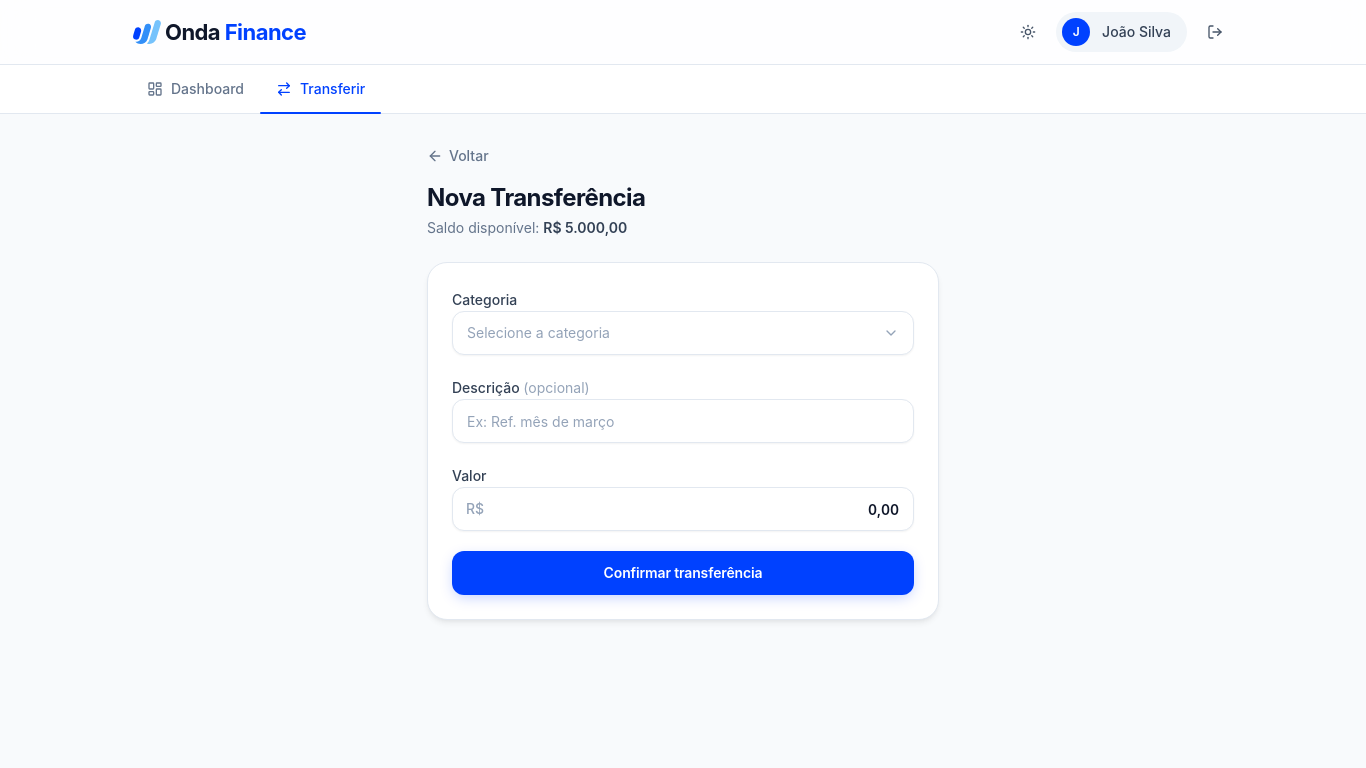
Test case: Transfer Page › should format currency input like a banking app
Click the field labelled "Valor": click(683, 509) [452,487,914,531]
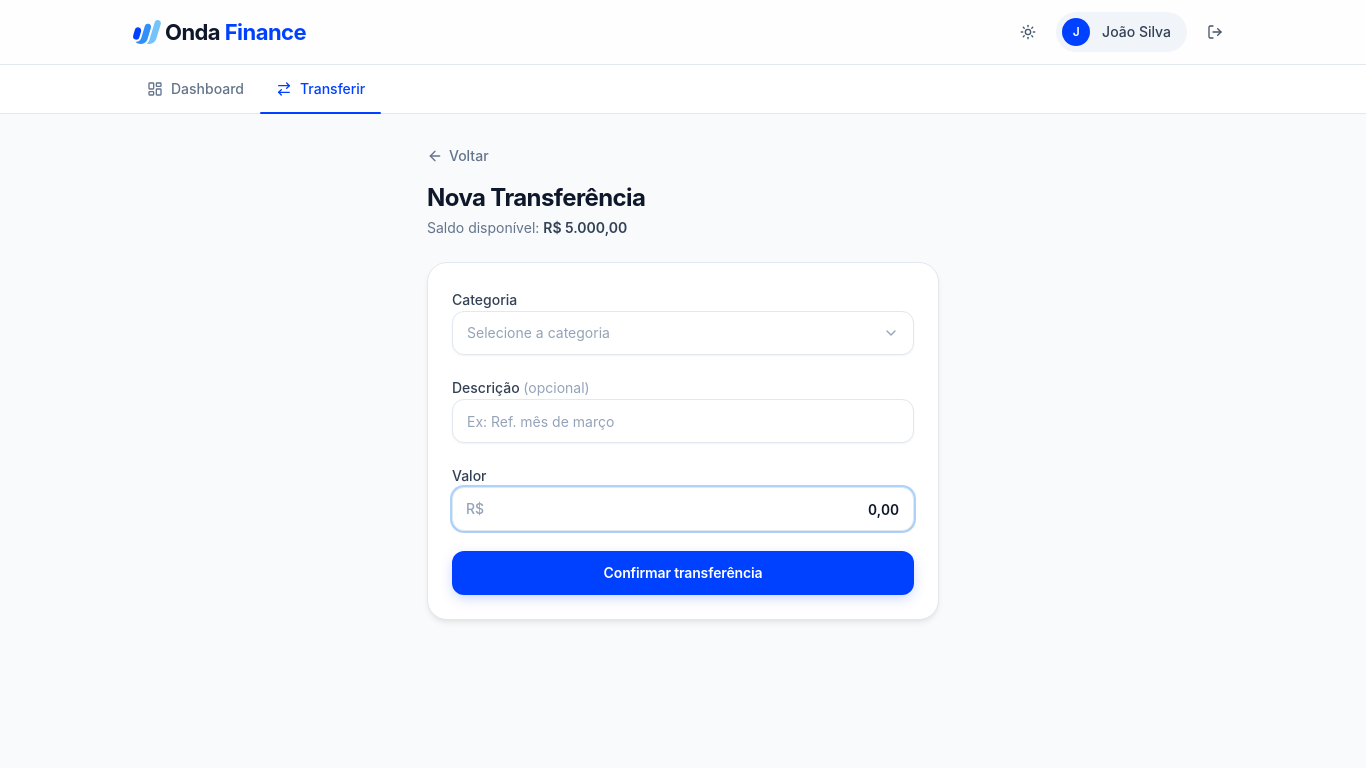
Type keys "3"
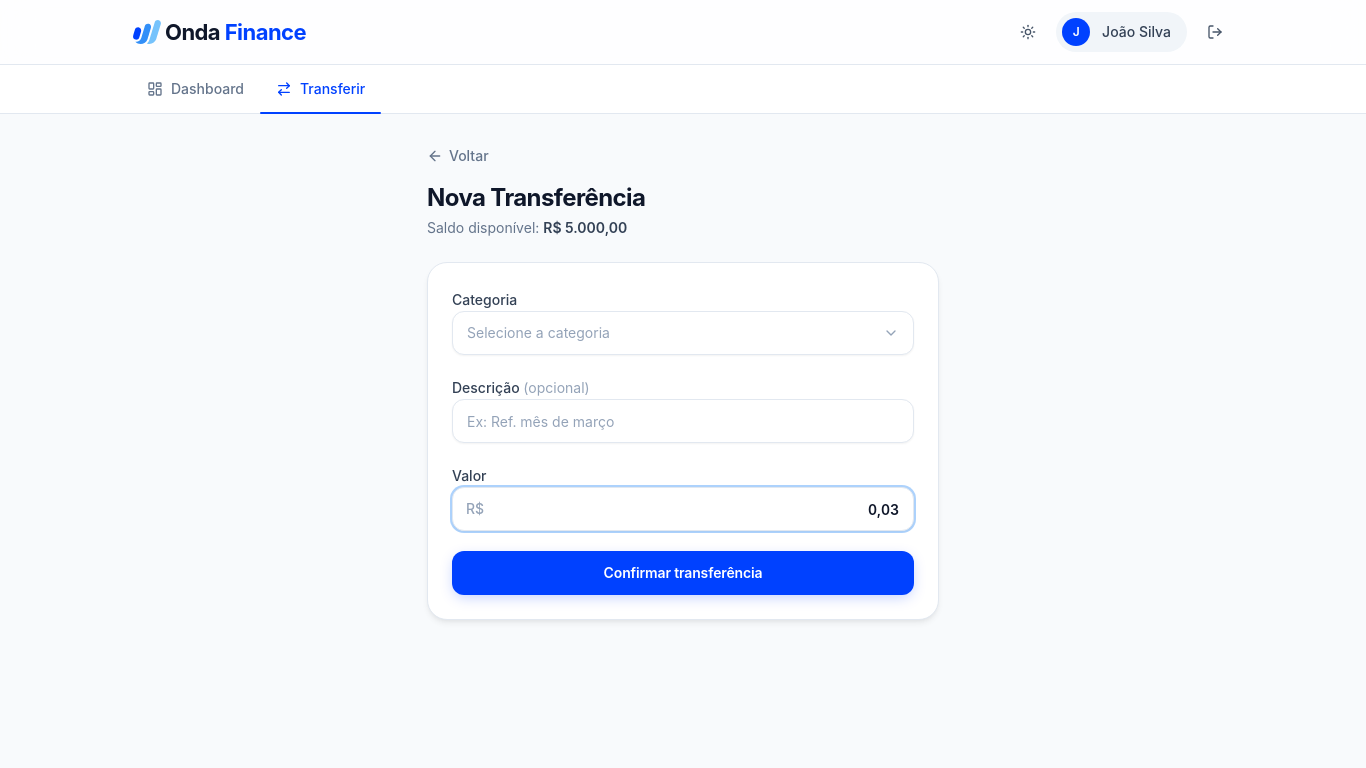
Expected: the field labelled "Valor" holds "0,03", [452,487,914,531]
Type keys "2"
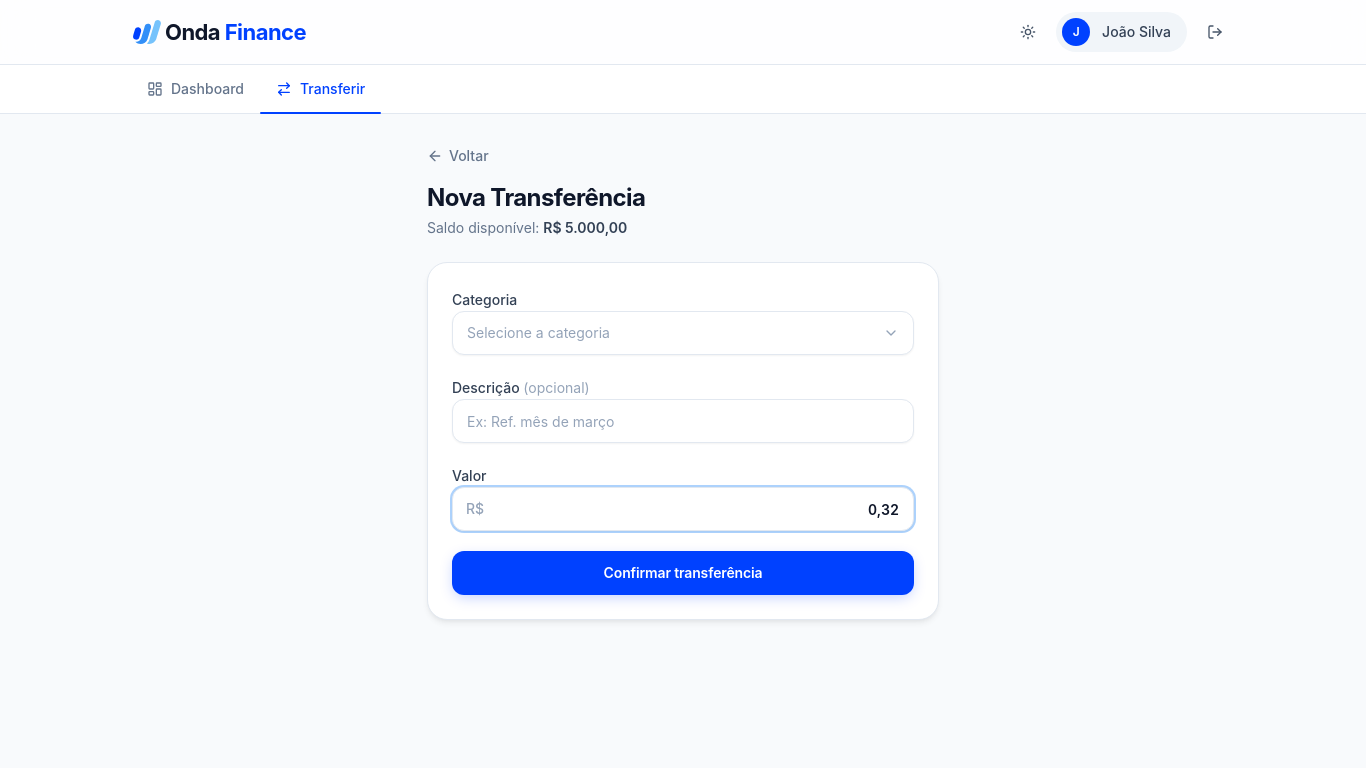
Expected: the field labelled "Valor" holds "0,32", [452,487,914,531]
Type keys "5"
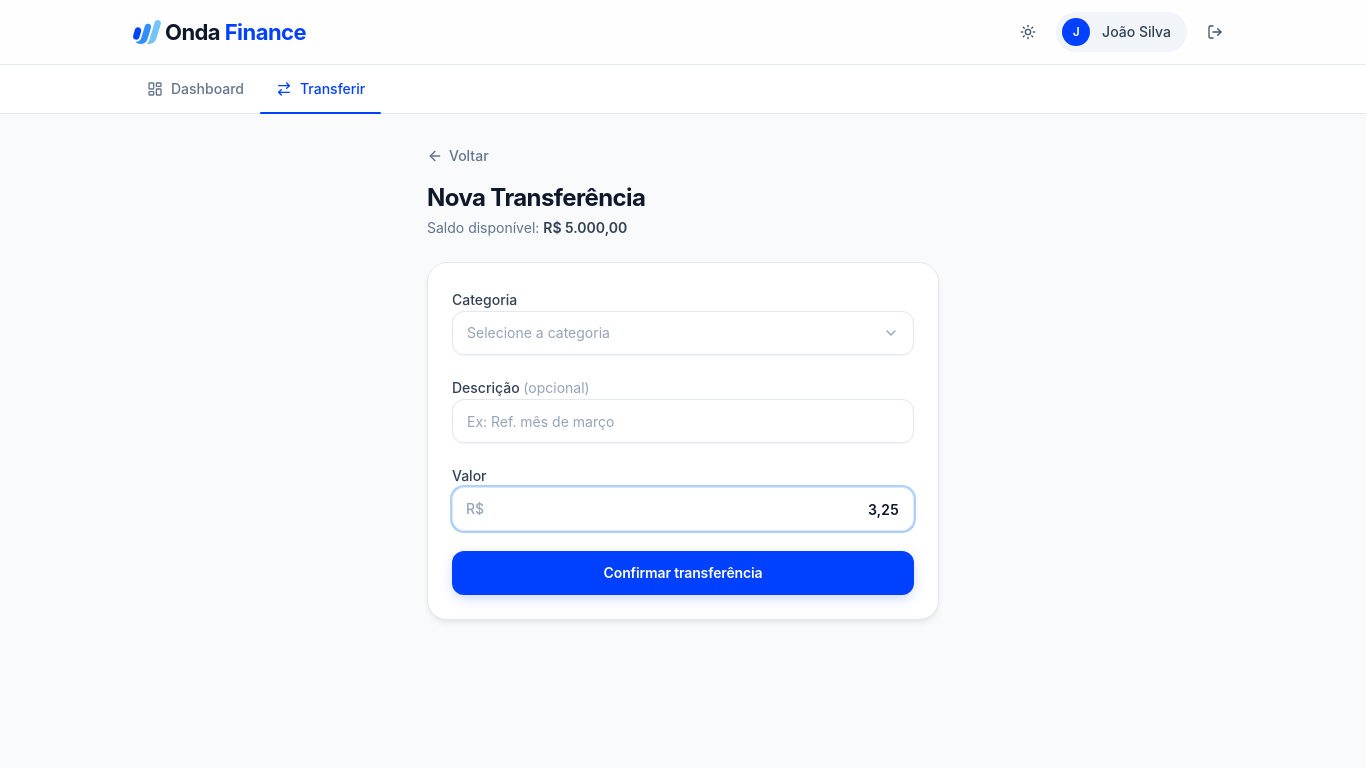
Expected: the field labelled "Valor" holds "3,25", [452,487,914,531]
Type keys "9"
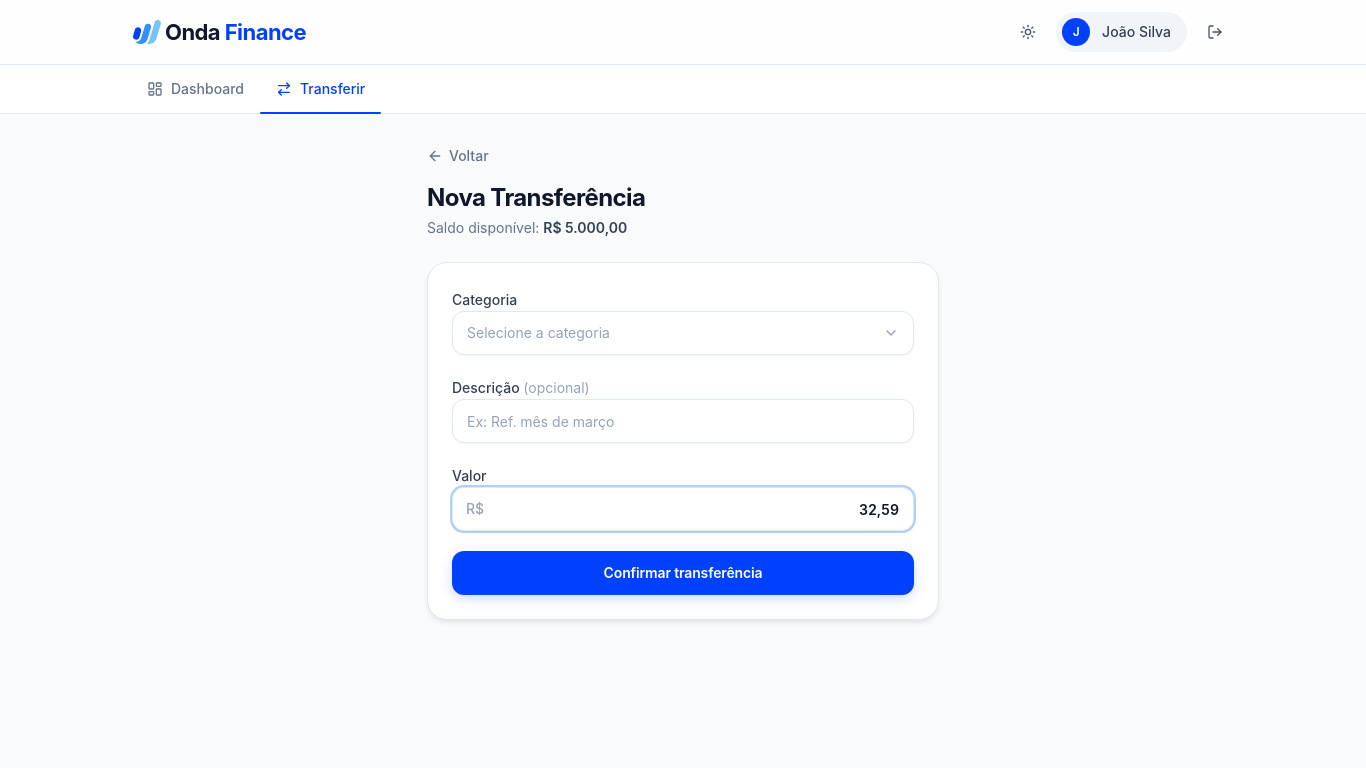
Expected: the field labelled "Valor" holds "32,59", [452,487,914,531]
Press Backspace
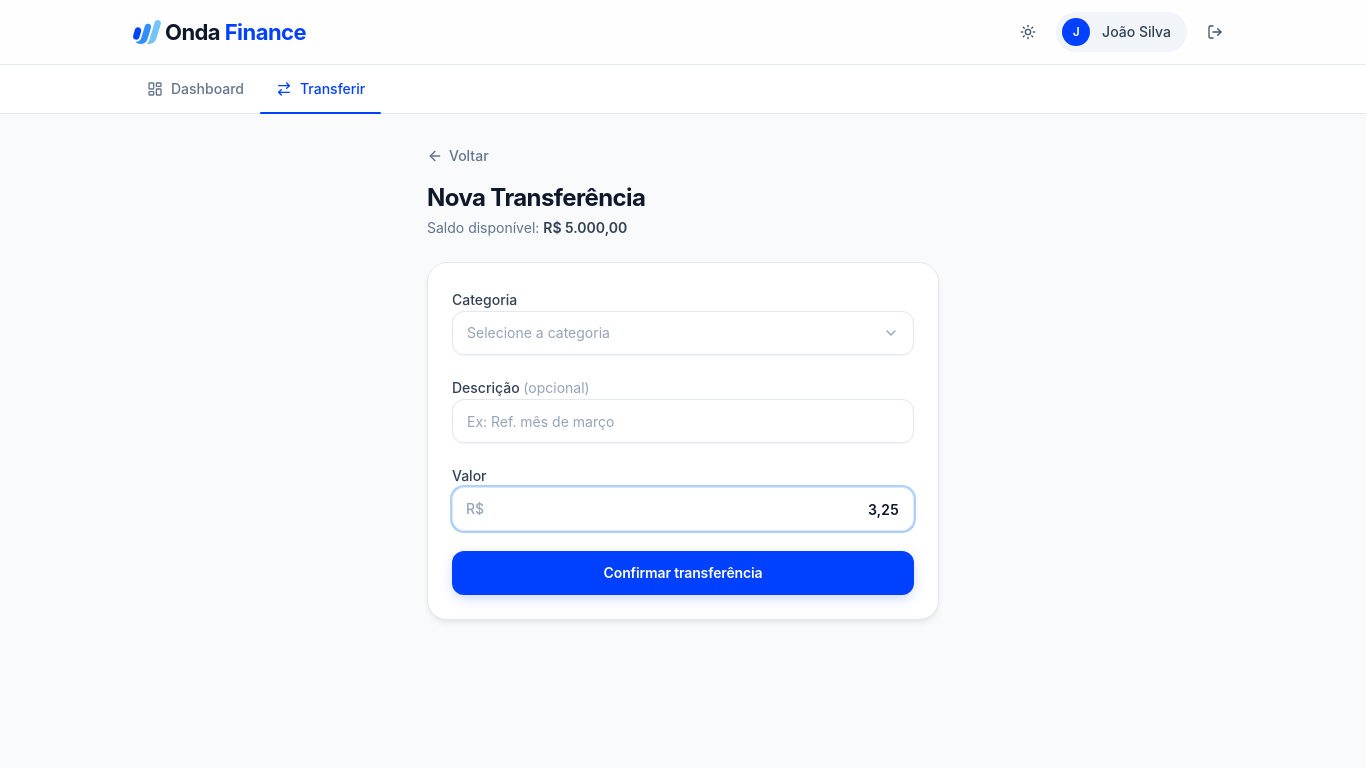
Expected: the field labelled "Valor" holds "3,25", [452,487,914,531]
